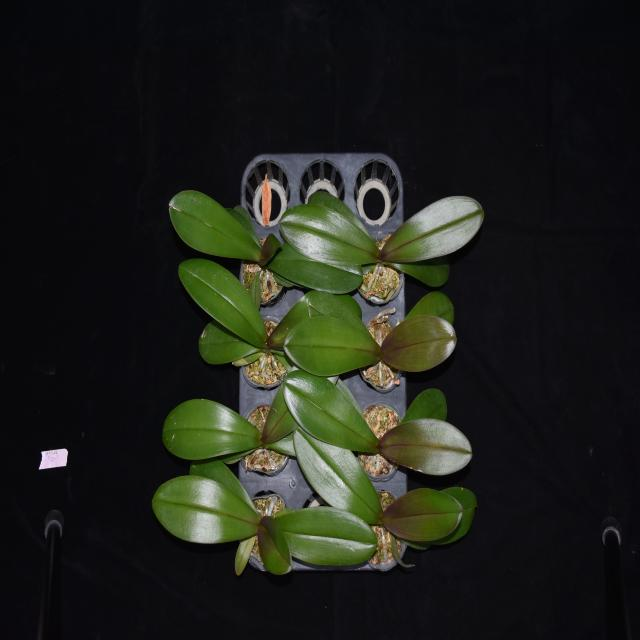leaf: (292, 426, 383, 528), (175, 256, 270, 348), (266, 285, 363, 369), (380, 190, 485, 264), (153, 474, 260, 543), (167, 187, 260, 266), (285, 376, 381, 451), (278, 204, 384, 266), (161, 399, 262, 463), (280, 503, 379, 568), (283, 314, 383, 376), (379, 419, 474, 480), (270, 243, 367, 294), (381, 488, 462, 548), (380, 312, 459, 371), (191, 451, 259, 516), (305, 188, 379, 241), (188, 315, 266, 364), (307, 288, 372, 337), (400, 288, 456, 331), (262, 380, 298, 446), (445, 484, 483, 546), (384, 258, 454, 288), (259, 515, 293, 576), (221, 204, 263, 248), (401, 387, 449, 424), (233, 534, 257, 575), (256, 230, 281, 268), (248, 266, 263, 308)
